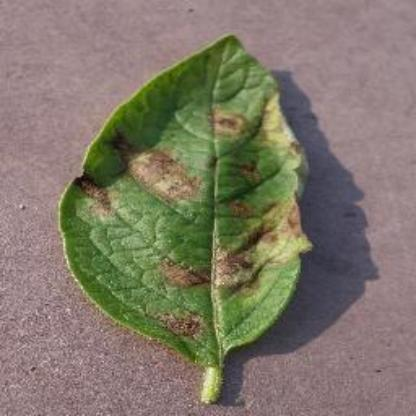Late-Blight: (64, 22, 322, 364)
